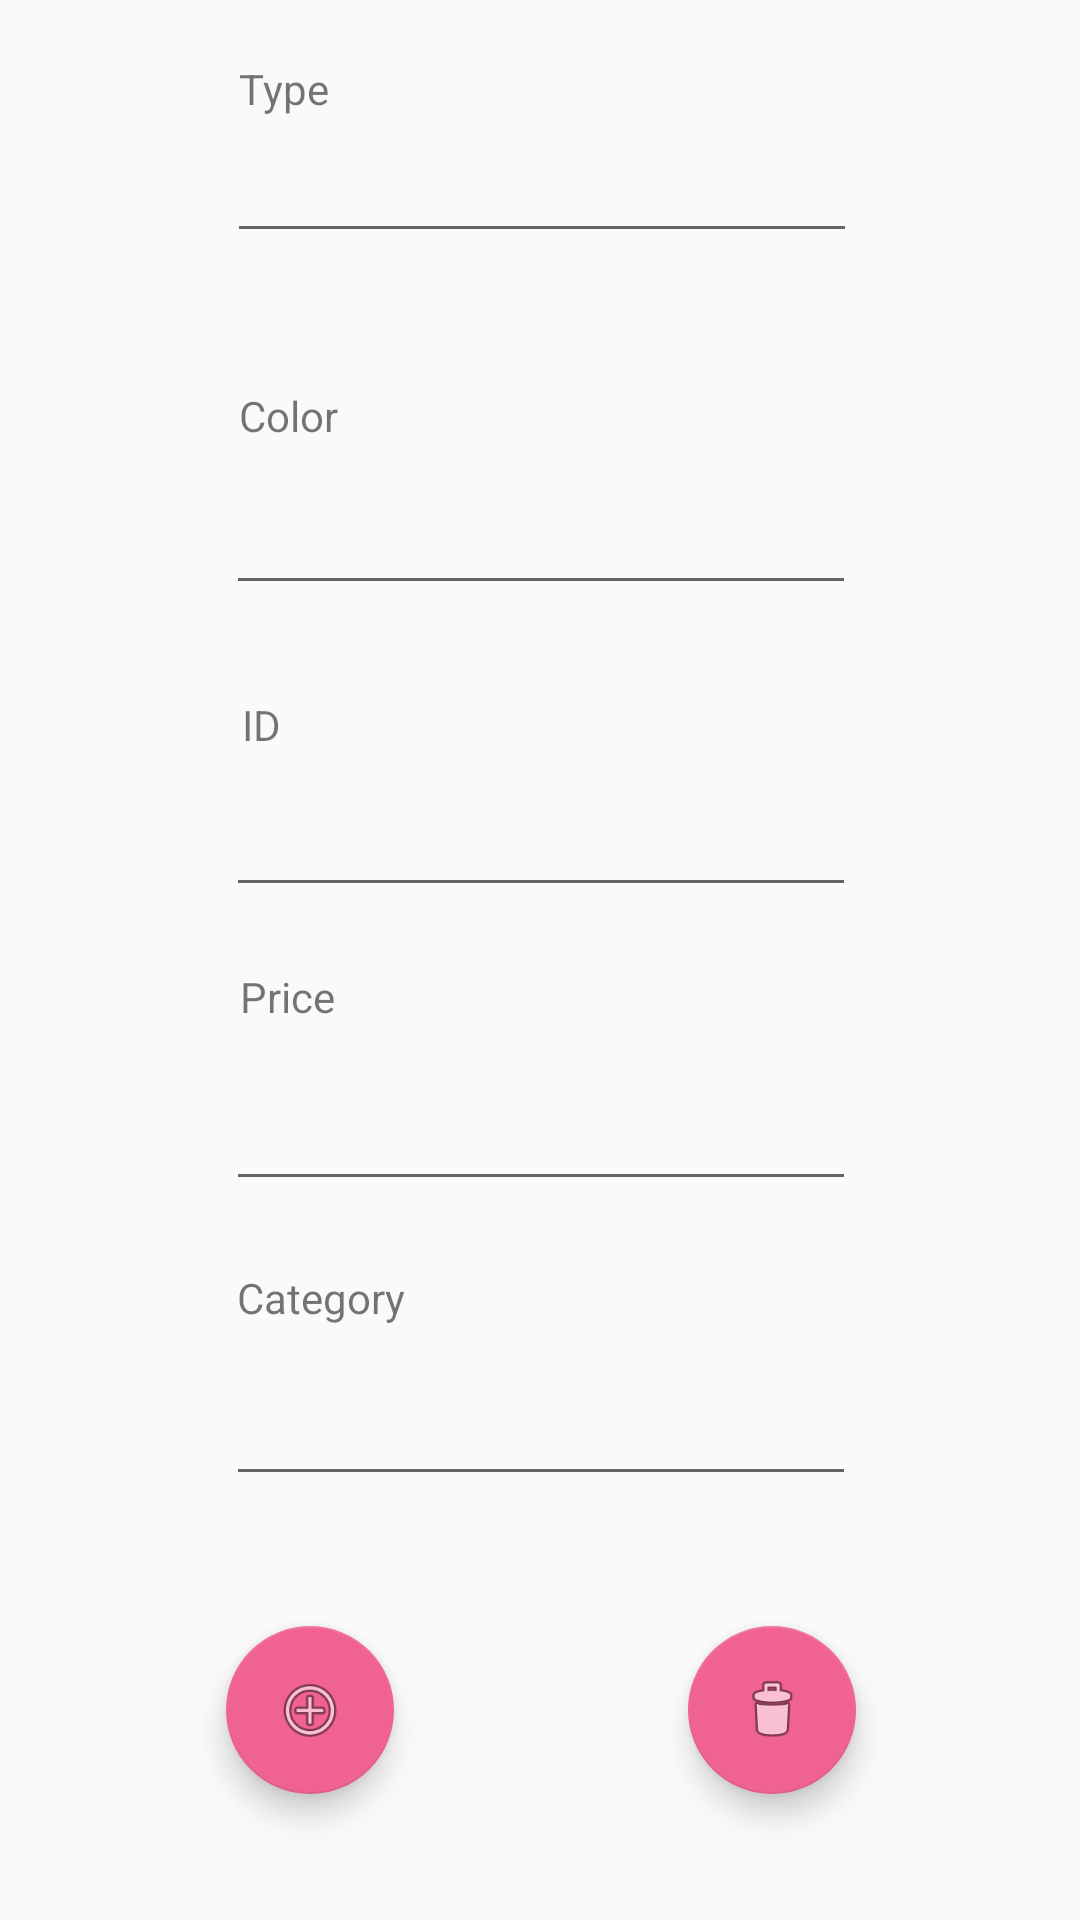

Named icons in this screenshot (1080 x 1920) and their centers, (x=x, y=y):
add: (x=310, y=1710)
delete: (x=772, y=1710)
